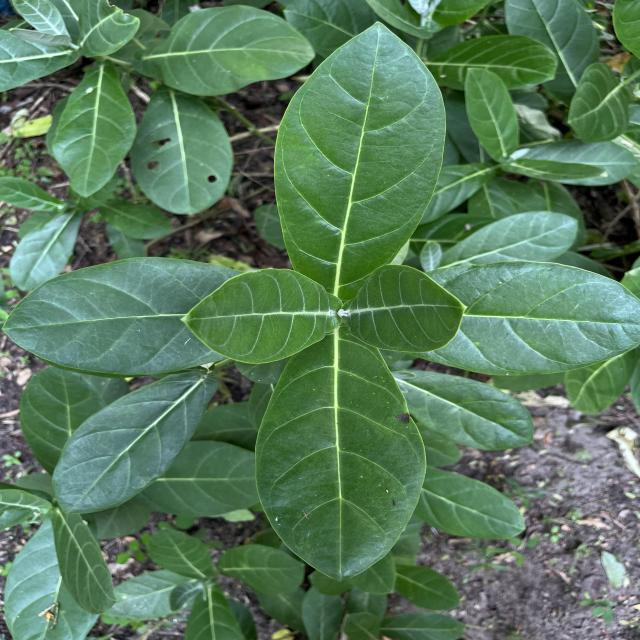Calotropis gigantea: (270, 19, 448, 282), (252, 325, 430, 584), (2, 255, 234, 376), (425, 260, 640, 378), (50, 370, 222, 516), (137, 4, 318, 99), (179, 267, 345, 365), (130, 85, 238, 216), (392, 368, 537, 453), (52, 59, 140, 198), (340, 262, 470, 354), (415, 463, 528, 542), (420, 32, 562, 93), (461, 64, 523, 161)
